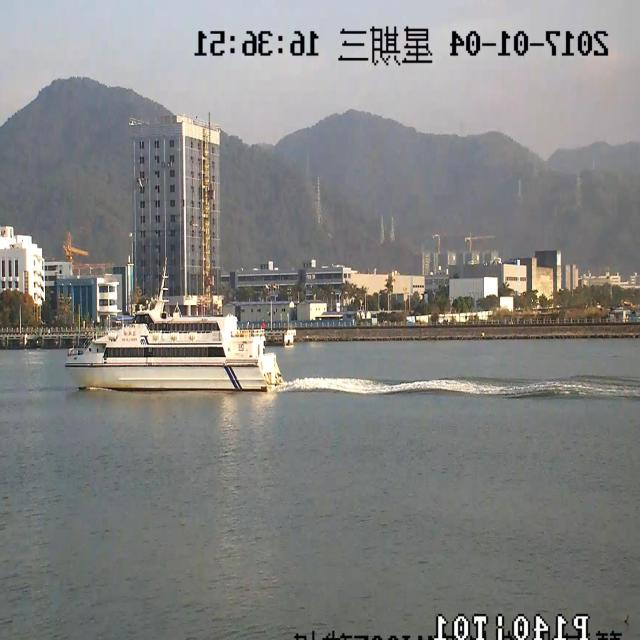passenger ship: (62, 249, 272, 402)
